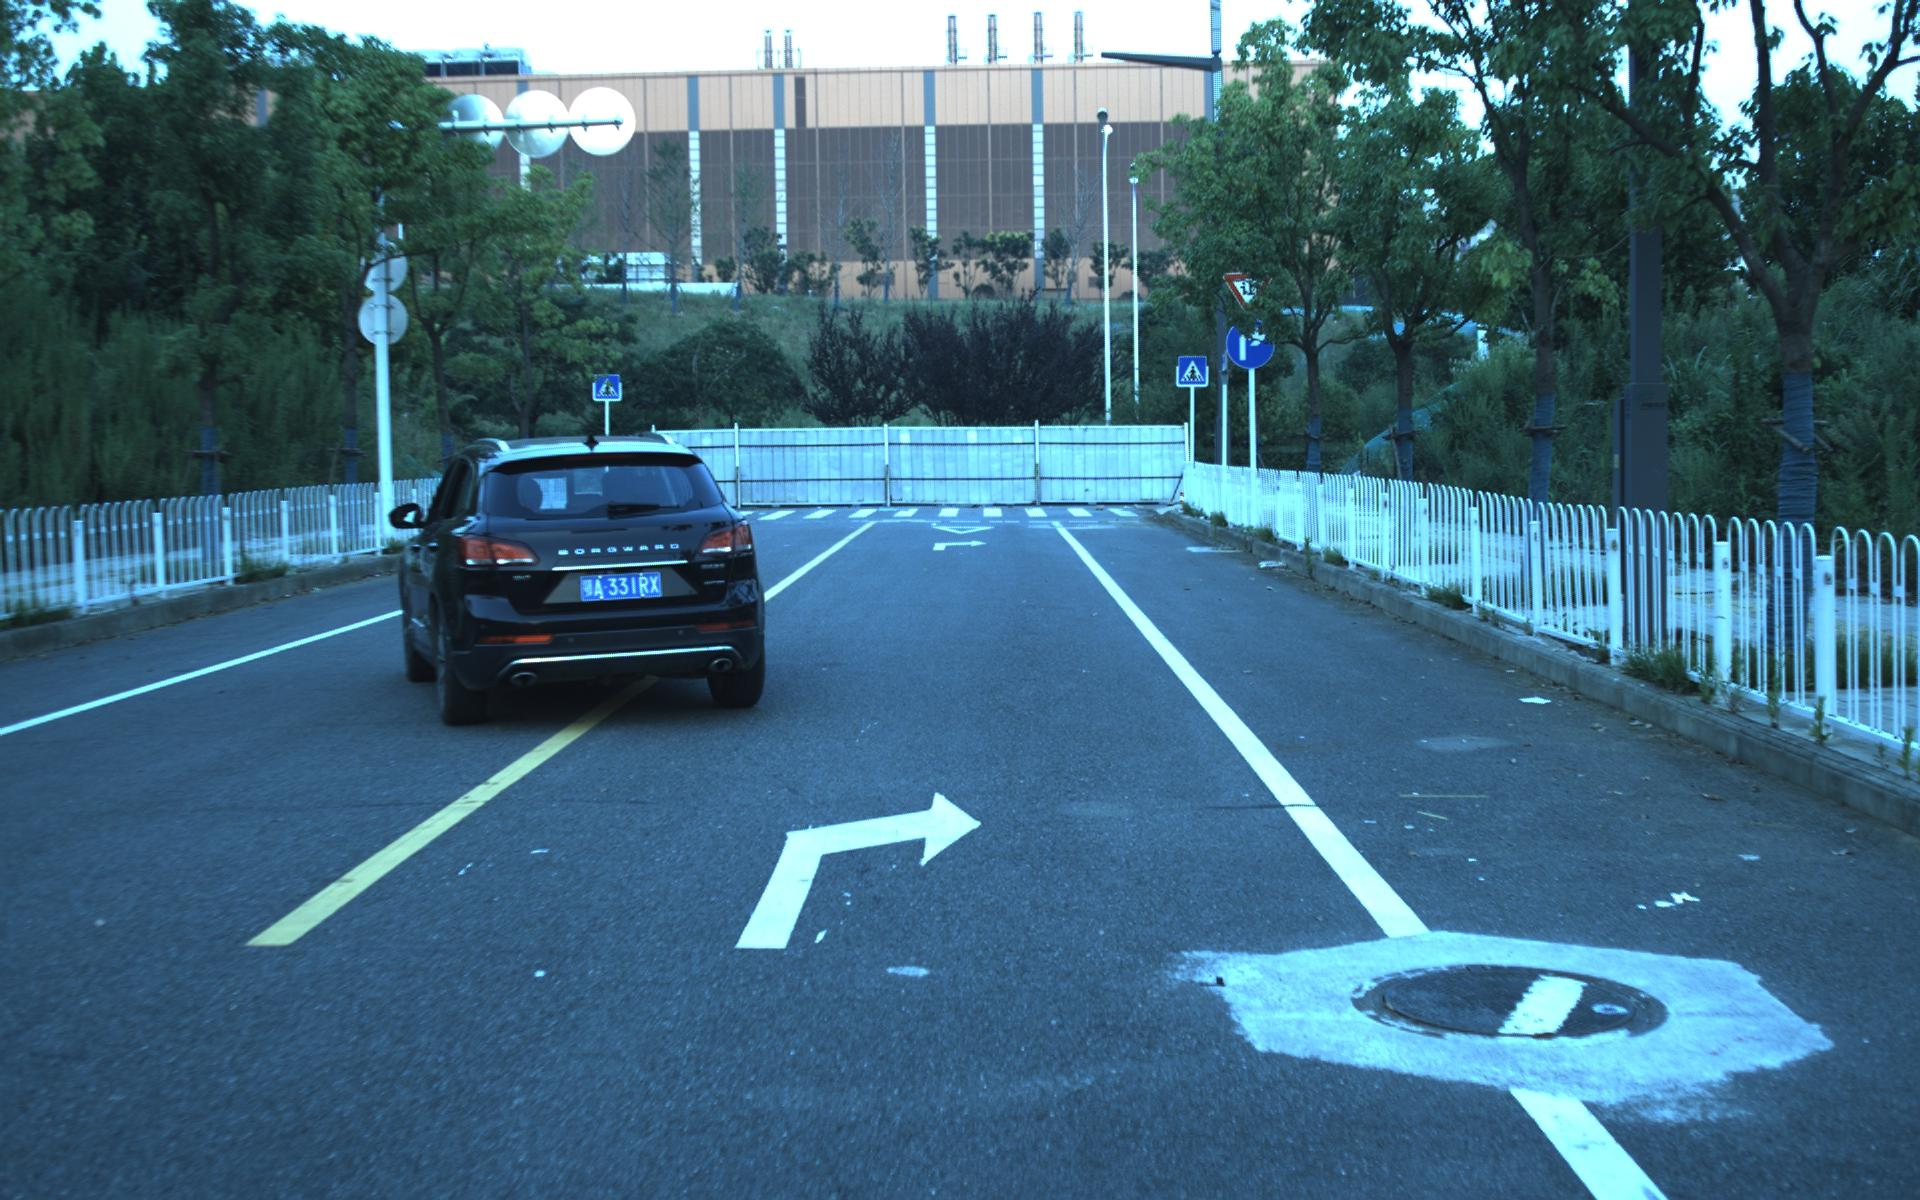Car: (388, 429, 775, 731)
